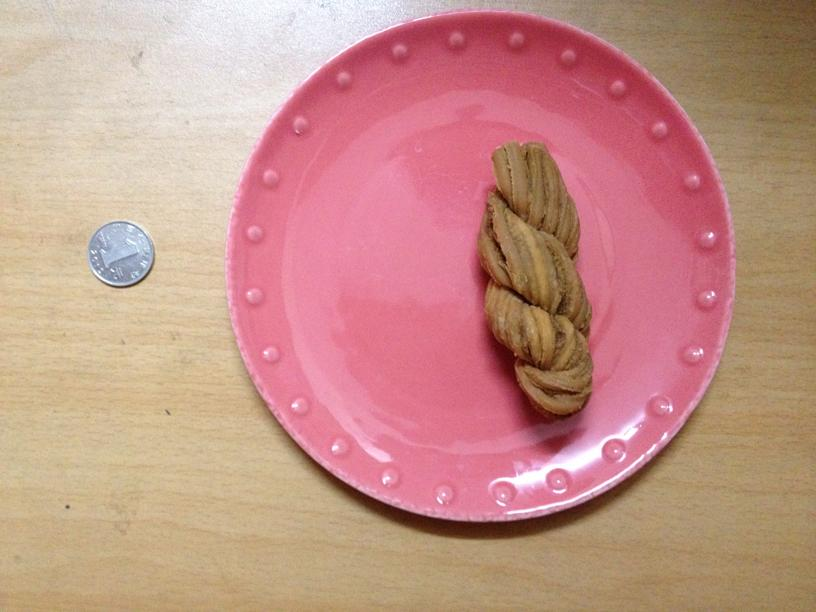coin: (87, 222, 154, 287)
fired_dough_twist: (473, 140, 596, 413)
